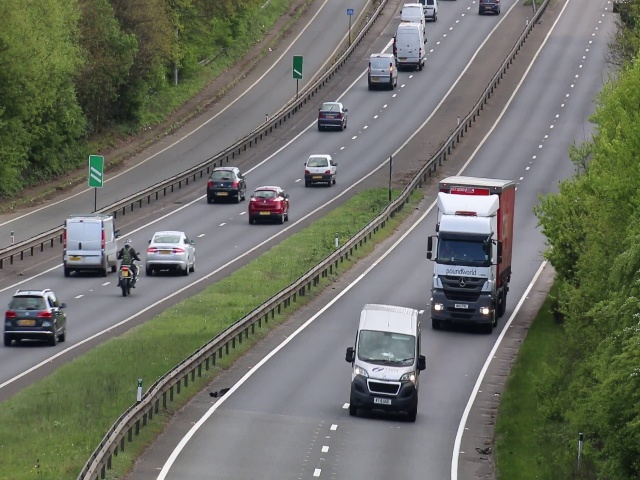car: (431, 175, 510, 332), (350, 303, 420, 425), (4, 290, 67, 345), (63, 215, 116, 275), (144, 229, 196, 273), (204, 165, 249, 203), (249, 184, 289, 224), (395, 23, 426, 69), (301, 151, 338, 188), (368, 54, 397, 90), (318, 101, 348, 133)
